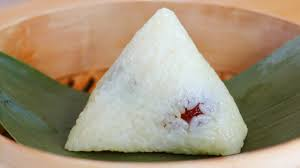zongzi: (65, 8, 247, 154)
